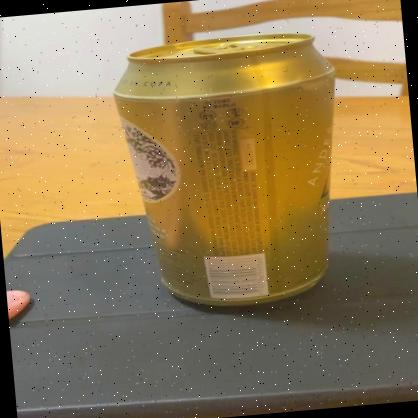can: (110, 29, 356, 317)
